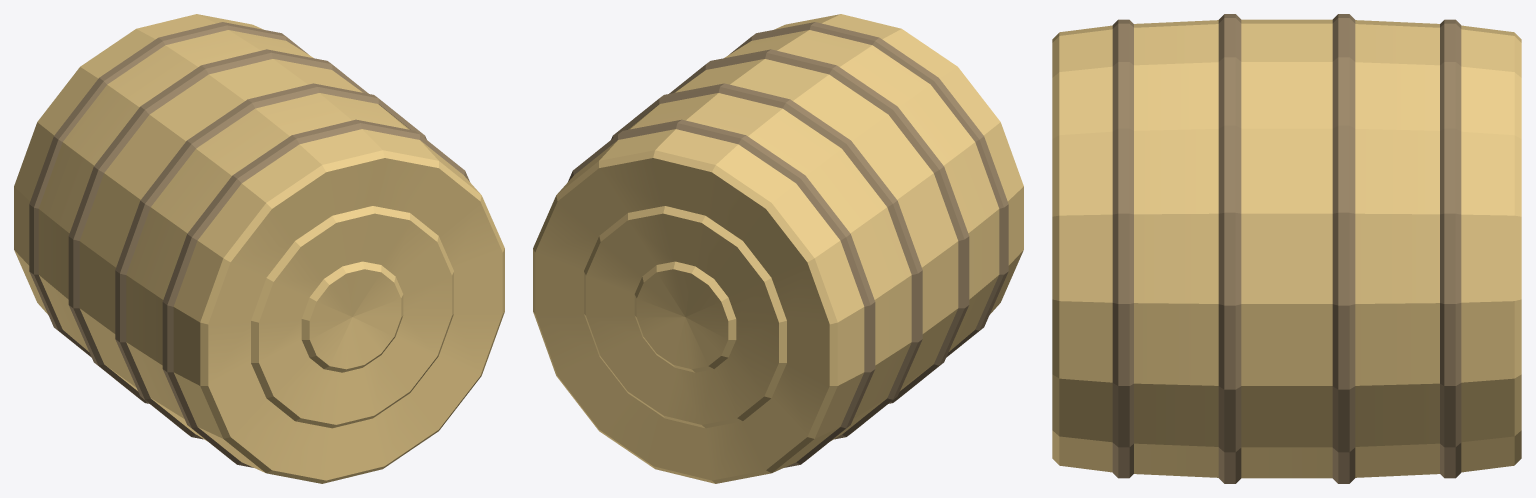
Rendered from Prop_Decorative_Hay_Bale_Barrel.obj.
3 renders of one model, left to right at view 1: azimuth 30°, elevation 25°; view 2: azimuth 150°, elevation 25°; view 3: azimuth 270°, elevation 25°, orthographic. The views are drawn at different scales.
Visible parts, largest first — view 1: Bale_End, Bale_Center, Strap; view 2: Bale_End, Bale_Center, Strap; view 3: Bale_Center, Strap, Bale_End.
Boxes of the visible parts, <box> form: Bale_End: <box>200,150,504,483</box>; Bale_Center: <box>14,14,480,472</box>; Strap: <box>29,22,469,467</box>; Bale_End: <box>533,150,837,483</box>; Bale_Center: <box>557,14,1023,472</box>; Strap: <box>568,22,1008,467</box>; Bale_Center: <box>1059,19,1514,478</box>; Strap: <box>1112,14,1461,483</box>; Bale_End: <box>1052,33,1521,464</box>.
Size of the model in its own units: 1.54 by 1.54 by 1.55.
